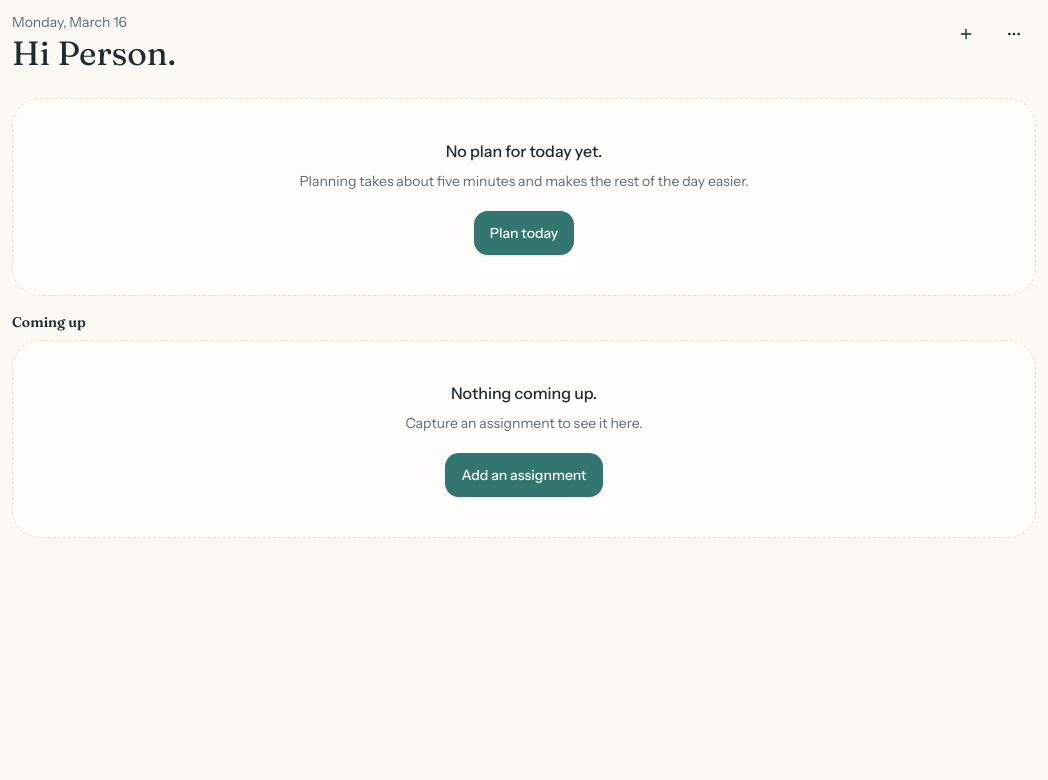
Test case: HomePage › does not offer Sign out from the More options menu
What coordinates should you click on to do the following:
click the button named "More options"
I would click on:
 (1014, 34)
Its box is [992,12,1036,56].
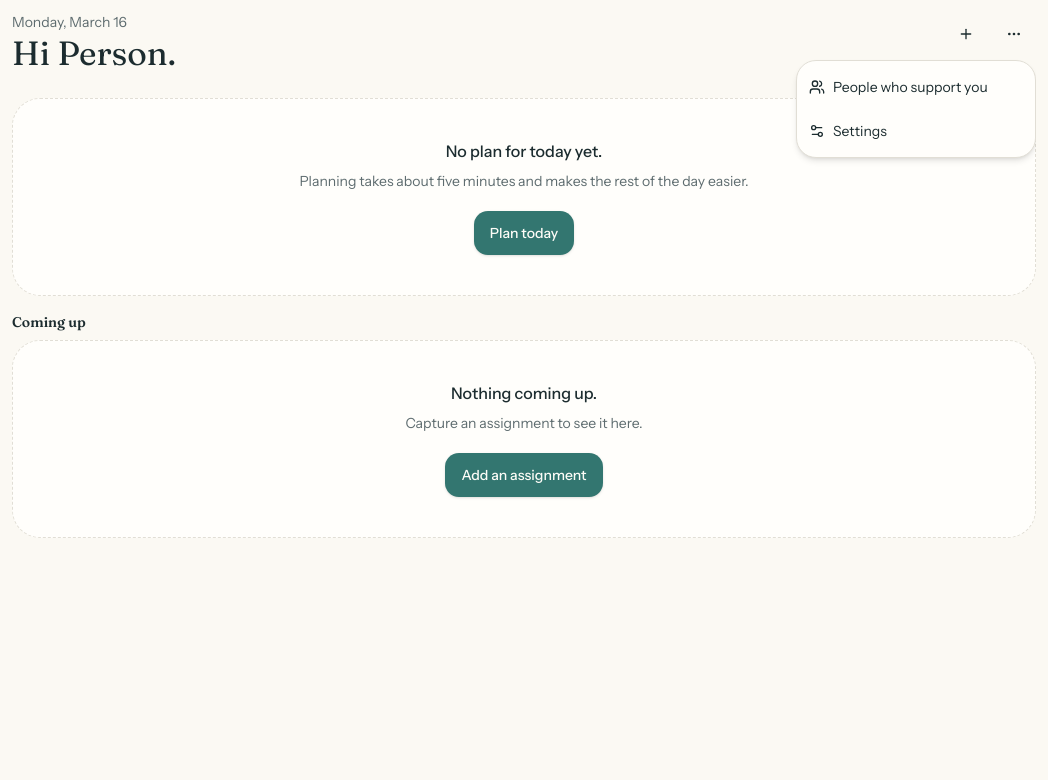
expect the menu item "Settings" is shown: met, box [809,122,887,140]
expect the number of menu items is 2: met, box [809,78,988,96]; [809,122,887,140]
